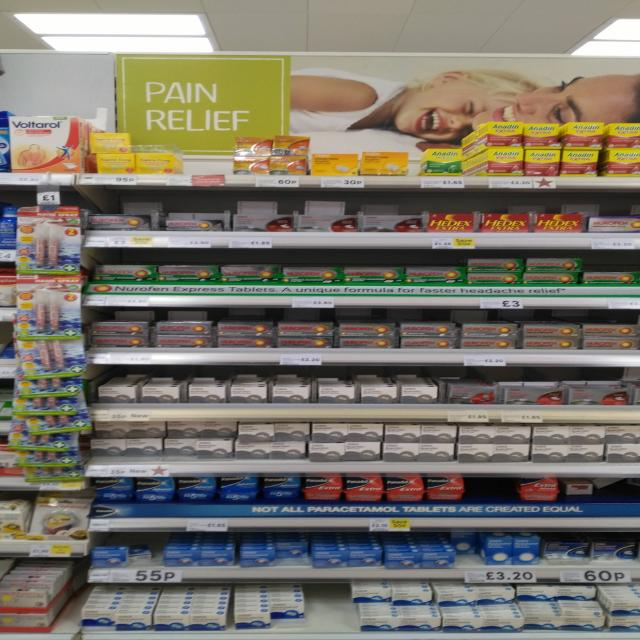void: (185, 133, 231, 192), (471, 474, 521, 518), (314, 582, 350, 640), (596, 476, 640, 518)
